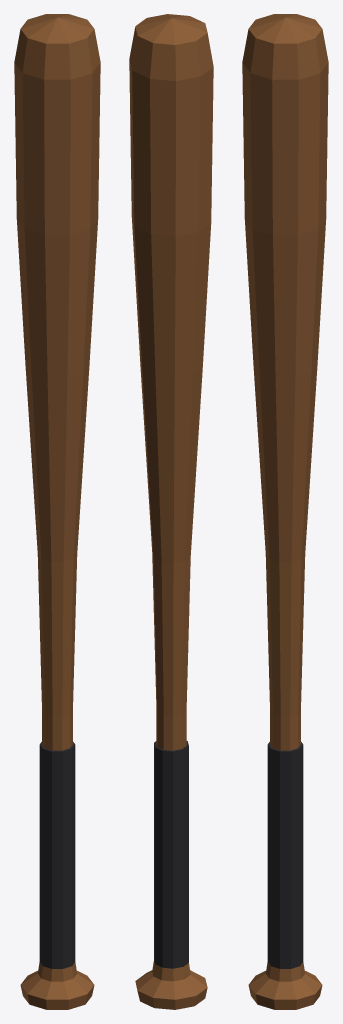
File: baseball-bat.glb
3 renders of one model, left to right at view 1: azimuth 90°, elevation 25°; view 2: azimuth 150°, elevation 25°; view 3: azimuth 270°, elevation 25°, orthographic.
Parts seen in each view (by area): view 1: baseball_bat; view 2: baseball_bat; view 3: baseball_bat.
Part boxes in pixels (x1=…): baseball_bat: x1=14, y1=14, x2=100, y2=1009; baseball_bat: x1=129, y1=14, x2=213, y2=1009; baseball_bat: x1=242, y1=14, x2=328, y2=1009.
Size of the model in its own units: 0.0666 by 0.875 by 0.07.
